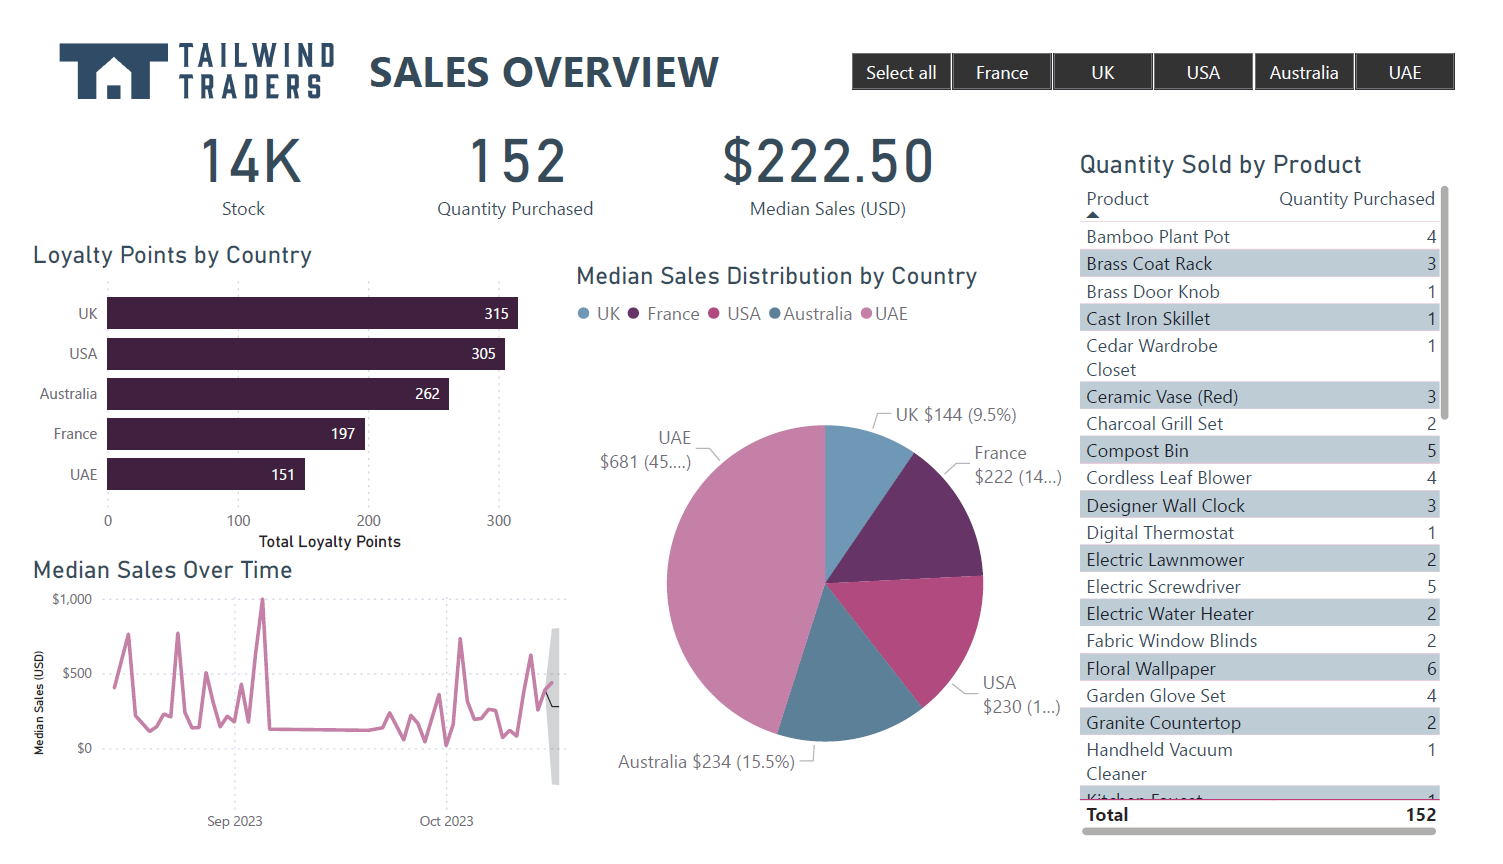

This screenshot's page, from the dashboard's own definition file:
{"tool":"powerbi","page":{"name":"Sales Overview","canvas":[1280,720],"ordinal":0},"visuals":[{"type":"card","fields":{"Values":["Sales in USD.Median Sales"]},"box":[693,0,234,109],"z":0},{"type":"clusteredBarChart","title":"Loyalty Points by Country","fields":{"Category":["Countries.Country"],"Y":["Sum(Sales in USD. Loyalty Points)"]},"box":[0,123.8,640,278.8],"z":1000},{"type":"clusteredColumnChart","title":"Quantity Sold by Product","fields":{"Category":["Sales in USD.Product Name"],"Y":["Sum(Sales in USD.Quantity Purchased)"]},"box":[640,123.8,640,278.8],"z":2000},{"type":"pieChart","title":"Median Sales Distribution by Country","fields":{"Category":["Countries.Country"],"Y":["Sales in USD.Median Sales"]},"box":[0,423,591,297],"z":3000},{"type":"lineChart","title":"Median Sales Over Time","fields":{"Y":["Sales in USD.Median Sales"],"Category":["Calendar.Date"]},"box":[631,423,649,297],"z":4000},{"type":"card","fields":{"Values":["Sum(Sales in USD. Stock  )"]},"box":[310,0,183,109],"z":5000},{"type":"card","fields":{"Values":["Sum(Sales in USD.Quantity Purchased)"]},"box":[500,0,159,109],"z":6000},{"type":"slicer","title":"Country","fields":{"Values":["Sales in USD.Country Name"]},"box":[956,24,320,85],"z":7000},{"type":"image","box":[0,10,284,96],"z":7001}]}

Visuals, with their boxes in screenshot pixels (x1, y1, x2, y2), scaled from the page's 1280x720 canvas onto the 1503x864 screenshot:
card - Sales in USD.Median Sales: <box>814,0,1089,131</box>
"Loyalty Points by Country" clusteredBarChart: <box>0,149,752,483</box>
"Quantity Sold by Product" clusteredColumnChart: <box>752,149,1502,483</box>
"Median Sales Distribution by Country" pieChart: <box>0,508,694,863</box>
"Median Sales Over Time" lineChart: <box>741,508,1502,863</box>
card - Sum(Sales in USD. Stock  ): <box>364,0,579,131</box>
card - Sum(Sales in USD.Quantity Purchased): <box>587,0,774,131</box>
"Country" slicer: <box>1123,29,1498,131</box>
image: <box>0,12,333,127</box>
